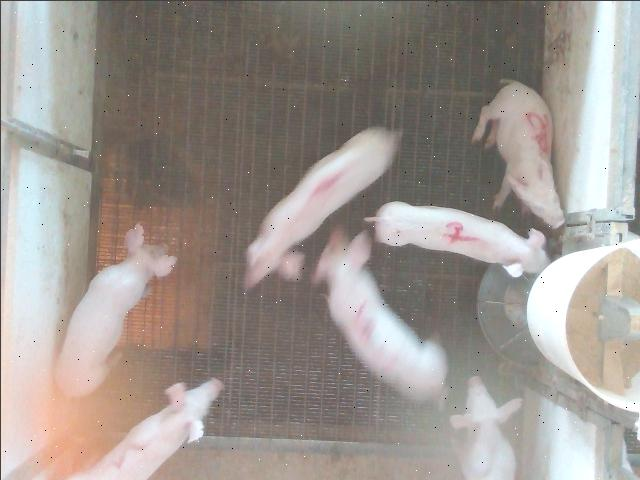pig-1: (245, 126, 398, 287)
pig-3: (314, 229, 446, 399), (69, 378, 221, 479)
pig-4: (366, 201, 548, 276)
pig-5: (471, 79, 564, 227)
